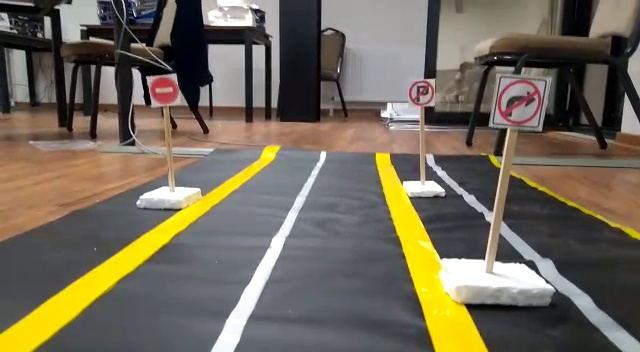girisi_olmayan_yol: (148, 73, 179, 105)
park_yapilmaz: (408, 79, 435, 106)
saga_donulmez: (495, 79, 545, 128)
